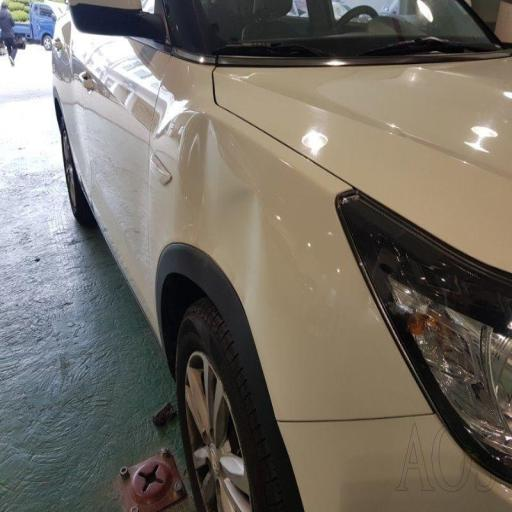dent: (131, 96, 267, 275)
